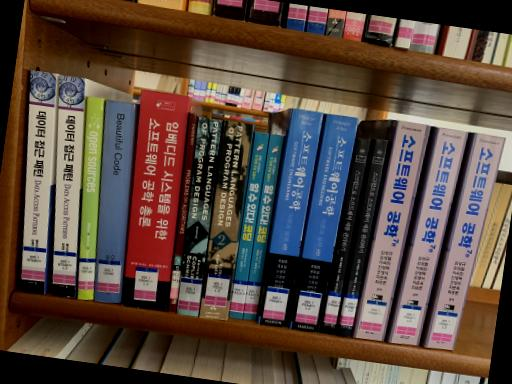book-spine: (386, 126, 469, 345), (424, 132, 506, 350), (354, 120, 431, 342), (289, 113, 359, 332), (122, 88, 190, 310), (257, 108, 324, 327), (199, 120, 255, 320), (337, 139, 389, 337), (322, 138, 372, 335), (176, 117, 224, 316), (94, 99, 136, 302), (21, 69, 56, 294), (243, 134, 284, 319), (229, 131, 269, 319), (52, 75, 85, 298), (168, 112, 198, 313), (78, 97, 104, 300)
